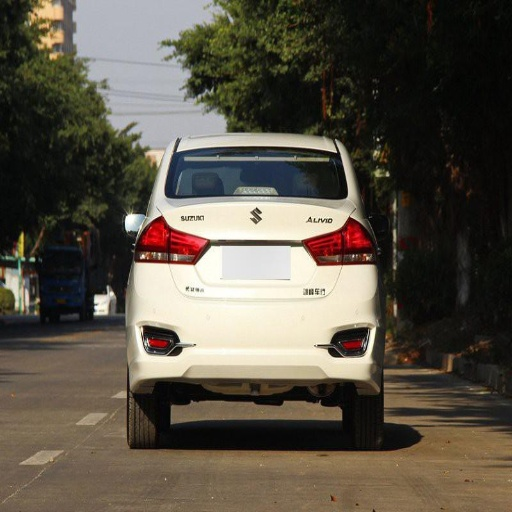back_bumper: (127, 264, 383, 384)
tailgate: (246, 198, 349, 261)
trunk: (160, 202, 350, 304)
